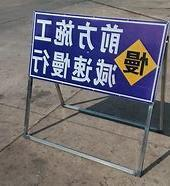sign: (28, 11, 167, 100)
